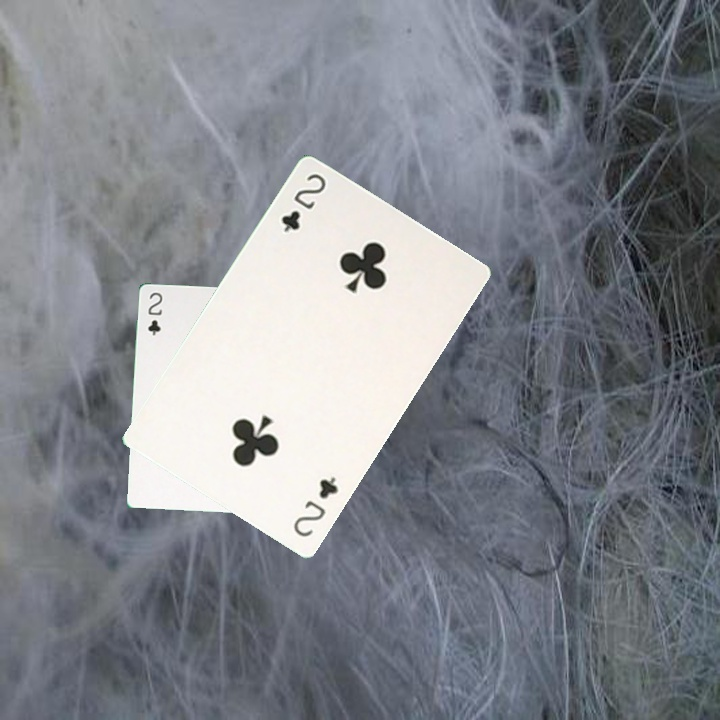2c: (289, 472, 341, 540), (277, 169, 329, 235), (144, 288, 165, 338)
